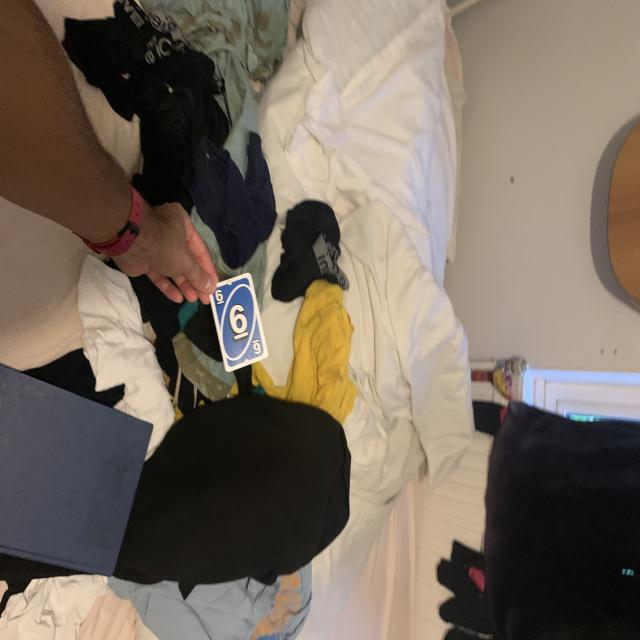lblue-6: (213, 288, 226, 306)
